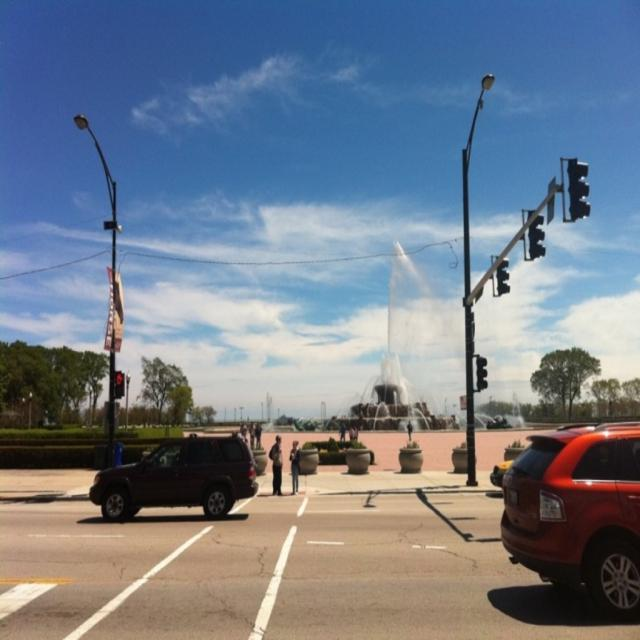off traffic light: (568, 159, 591, 219), (529, 210, 546, 258), (497, 256, 510, 296), (477, 357, 488, 390)
traffic light: (115, 370, 124, 396)
